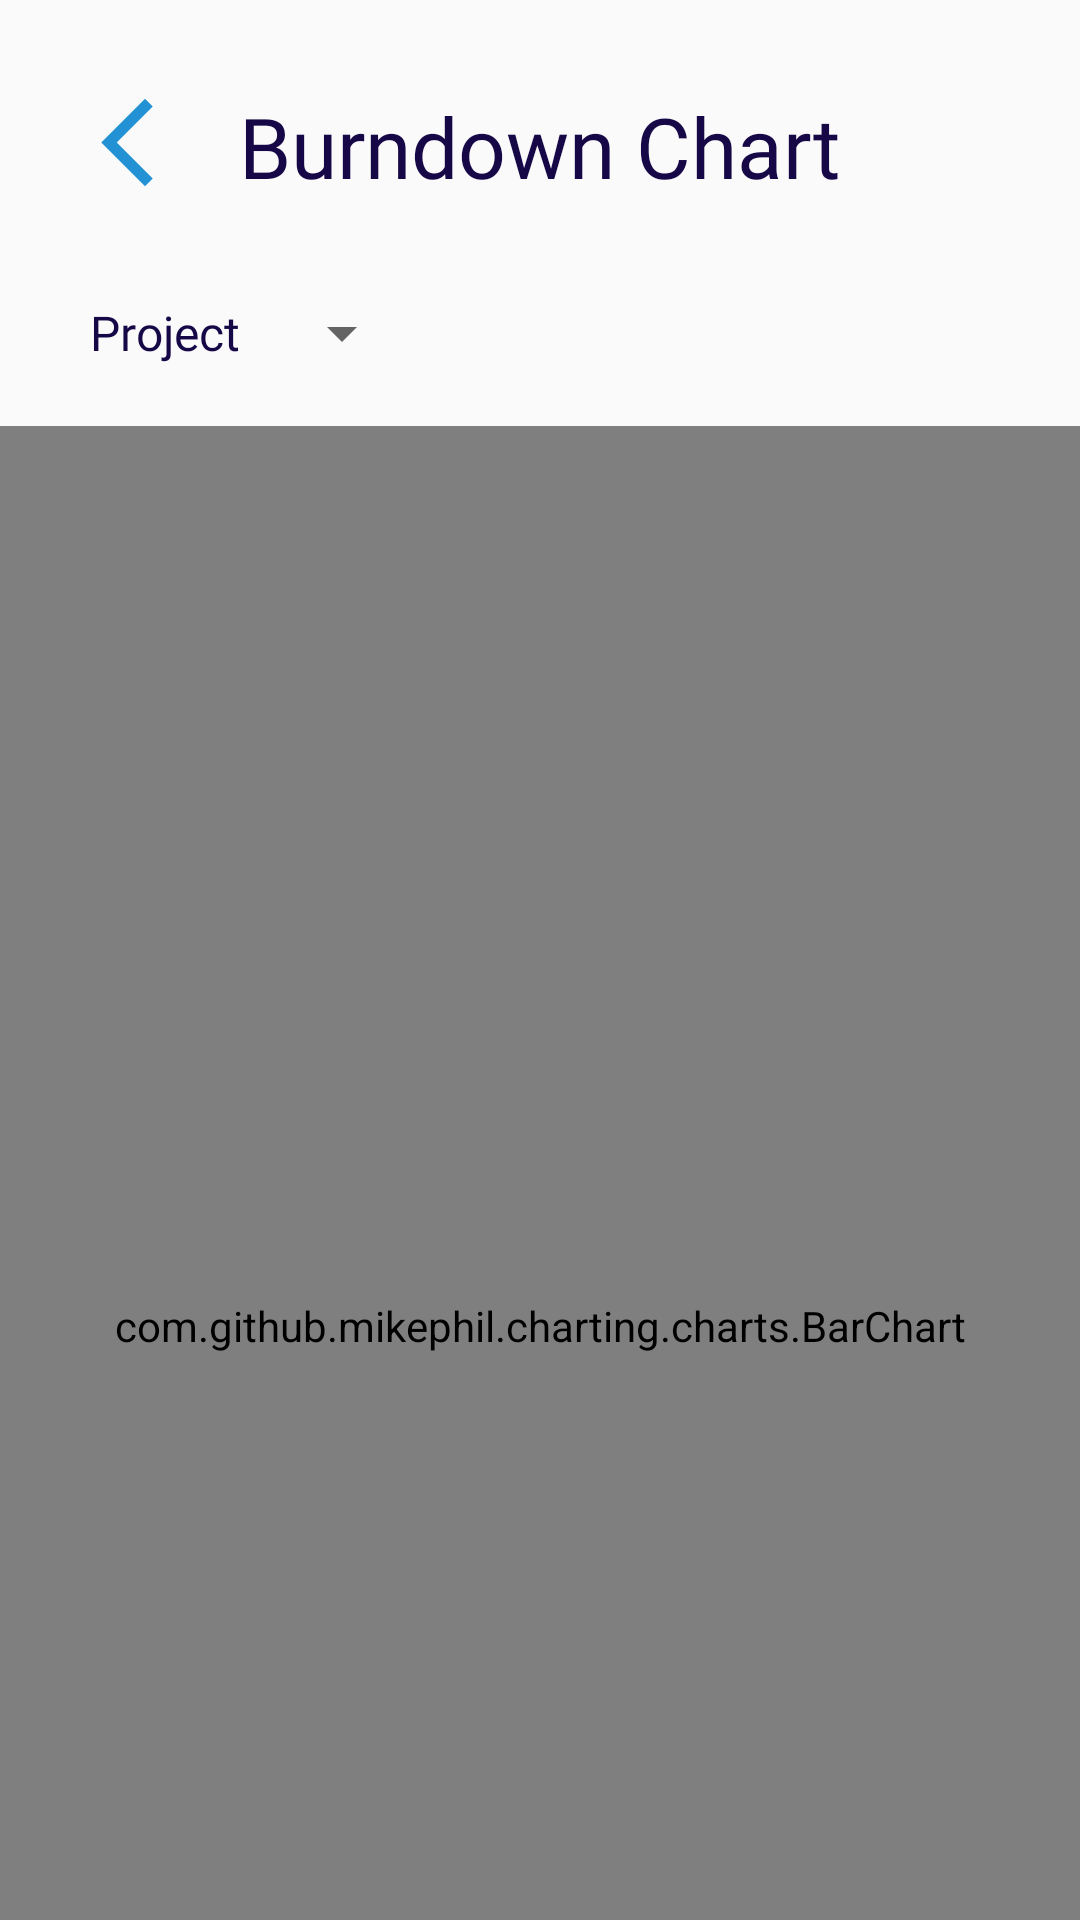

Screen size 1080px×1920px. Icon name, then its center in pixels as (x=x, y=y):
back: (x=127, y=142)
